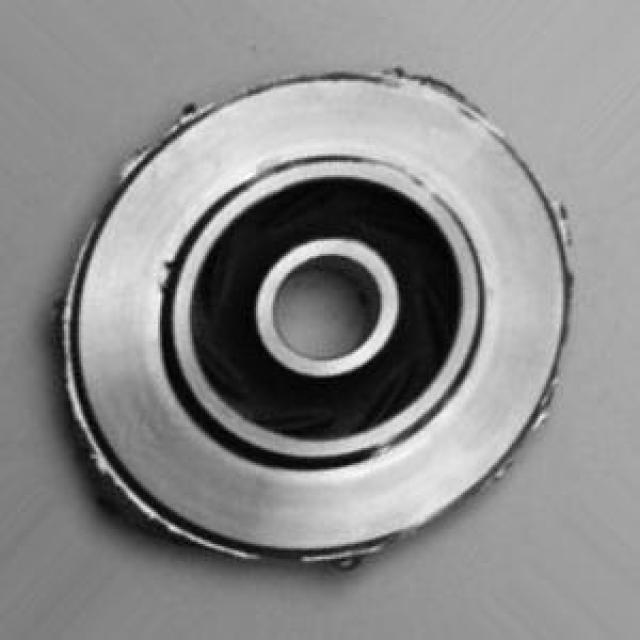Defect: (392, 60, 483, 111)
